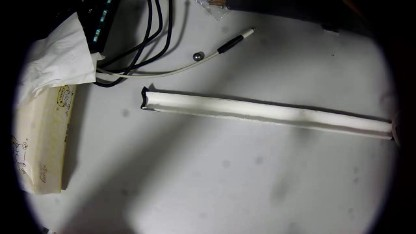gangzhu: (192, 50, 204, 61)
